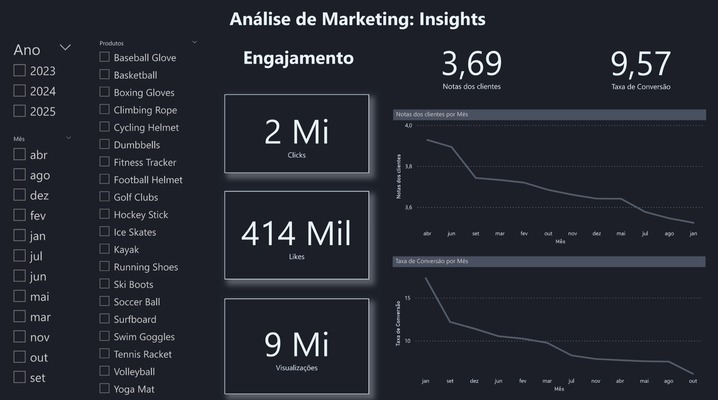

This screenshot's page, from the dashboard's own definition file:
{"tool":"powerbi","page":{"name":"Página 1","canvas":[1280,720],"ordinal":0},"visuals":[{"type":"card","fields":{"Values":["Calc (2).Taxa de Conversão"]},"box":[1024.5,69.9,229.4,103.1],"z":0},{"type":"textbox","box":[398.8,68.7,257.7,77.3],"z":1000},{"type":"card","fields":{"Values":["Calc (2).Clicks"]},"box":[398.8,173,257.7,139.9],"z":2000},{"type":"card","fields":{"Values":["Calc (2).Likes"]},"box":[398.8,344.8,257.7,157.1],"z":3000},{"type":"card","fields":{"Values":["Calc (2).Visualizações"]},"box":[398.8,536.2,257.7,169.3],"z":4000},{"type":"slicer","fields":{"Values":["products.ProductName"]},"box":[164.4,68.7,198.8,651.5],"z":5000},{"type":"gauge","fields":{"Y":["Calc (2).Notas dos clientes"]},"box":[699.4,68.7,278.5,104.3],"z":6000},{"type":"slicer","fields":{"Values":["Calendar.Ano"]},"box":[11,68.7,127.6,153.4],"z":7000},{"type":"slicer","fields":{"Values":["Calendar.Mês"]},"box":[11,239.3,127.6,466.3],"z":8000},{"type":"lineChart","fields":{"Y":["Calc (2).Taxa de Conversão"],"Category":["Calendar.Mês"]},"box":[698.2,461.4,555.8,244.2],"z":9000},{"type":"lineChart","fields":{"Y":["Calc (2).Notas dos clientes"],"Category":["Calendar.Mês"]},"box":[699.4,200,555.8,244.2],"z":10000},{"type":"textbox","box":[0,0,1279.8,57.7],"z":11000}]}

Visuals, with their boxes in screenshot pixels (x1, y1, x2, y2), scaled from the page's 1280x720 canvas onto the 718x400 screenshot:
card - Calc (2).Taxa de Conversão: box=[575, 39, 703, 96]
textbox: box=[224, 38, 368, 81]
card - Calc (2).Clicks: box=[224, 96, 368, 174]
card - Calc (2).Likes: box=[224, 192, 368, 279]
card - Calc (2).Visualizações: box=[224, 298, 368, 392]
slicer - products.ProductName: box=[92, 38, 204, 399]
gauge - Calc (2).Notas dos clientes: box=[392, 38, 549, 96]
slicer - Calendar.Ano: box=[6, 38, 78, 123]
slicer - Calendar.Mês: box=[6, 133, 78, 392]
lineChart - Calc (2).Taxa de Conversão x Calendar.Mês: box=[392, 256, 703, 392]
lineChart - Calc (2).Notas dos clientes x Calendar.Mês: box=[392, 111, 704, 247]
textbox: box=[0, 0, 717, 32]
